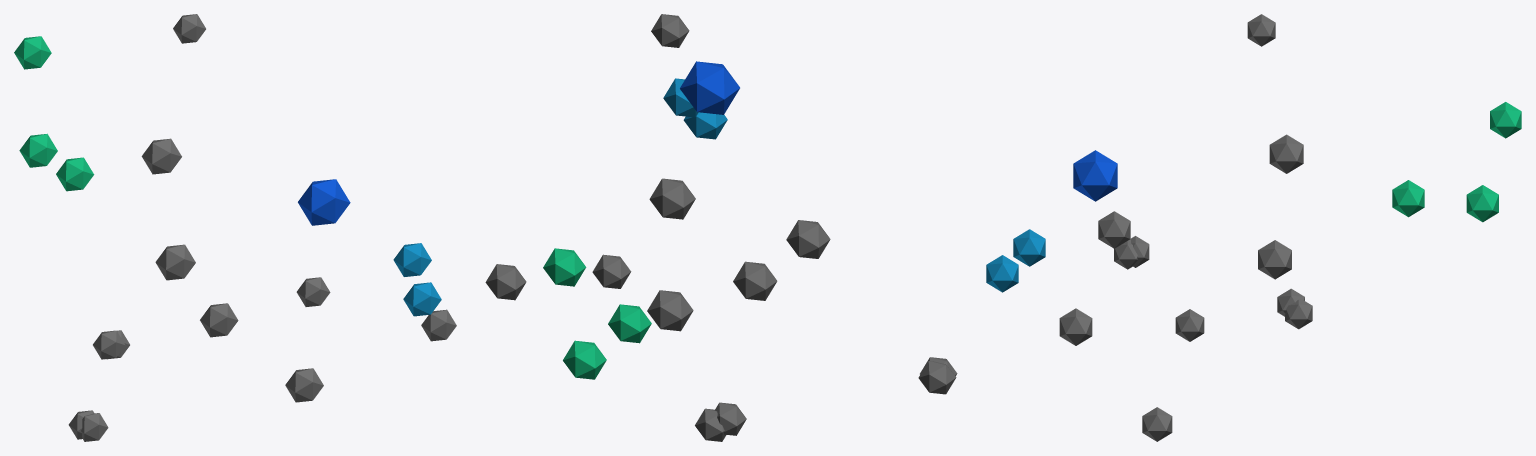
3 renders of one model, left to right at view 1: azimuth 30°, elevation 25°; view 2: azimuth 150°, elevation 25°; view 3: azimuth 270°, elevation 25°, orthographic. The views are drawn at different scales.
Parts seen in each view (by area): view 1: 03_01_03; view 2: 03_01_03; view 3: 03_01_03.
Part boxes in pixels (x1=…): 03_01_03: x1=14, y1=14, x2=456, y2=441; 03_01_03: x1=485, y1=14, x2=957, y2=441; 03_01_03: x1=986, y1=14, x2=1521, y2=441.
Bounding box in the file's own units: 0.4819 × 0.403 × 0.5828.
